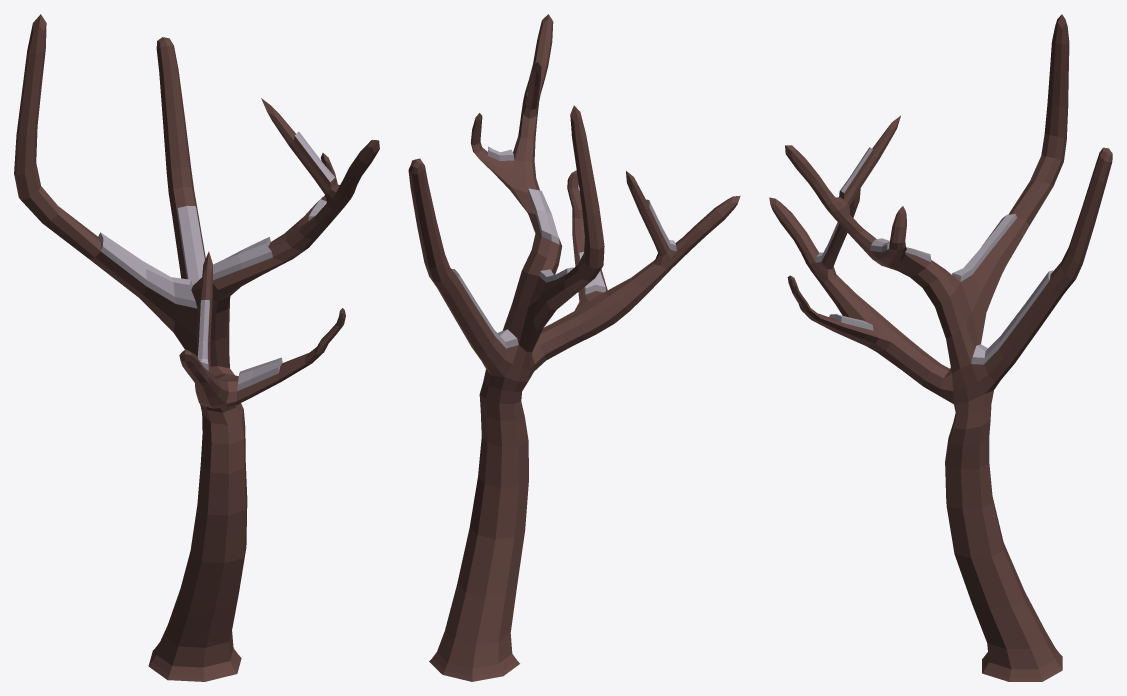
File: commontree_dead_snow5.glb
3 views of the same model, side by side, from view 1: azimuth 30°, elevation 25°; view 2: azimuth 150°, elevation 25°; view 3: azimuth 270°, elevation 25° (orthographic). The views are drawn at different scales.
Visible parts, largest first — view 1: CommonTree_Dead_Snow_5; view 2: CommonTree_Dead_Snow_5; view 3: CommonTree_Dead_Snow_5.
Part boxes in pixels (x1,y1,x2,y2): CommonTree_Dead_Snow_5: (14,14,379,681); CommonTree_Dead_Snow_5: (408,14,740,681); CommonTree_Dead_Snow_5: (769,14,1112,681).
Size of the model in its own units: 0.8443 by 2.3 by 1.2.
